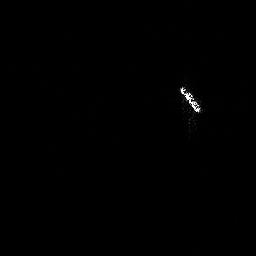ship: (178, 82, 203, 125)
